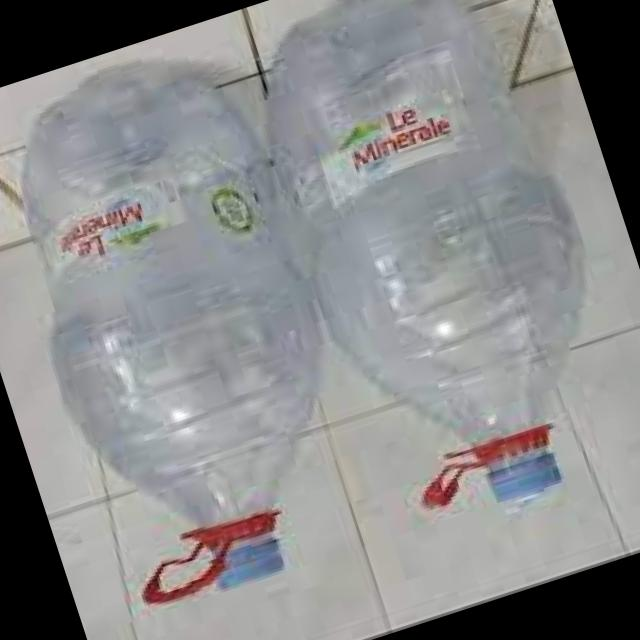Galon: (0, 33, 396, 624), (225, 0, 640, 554)
